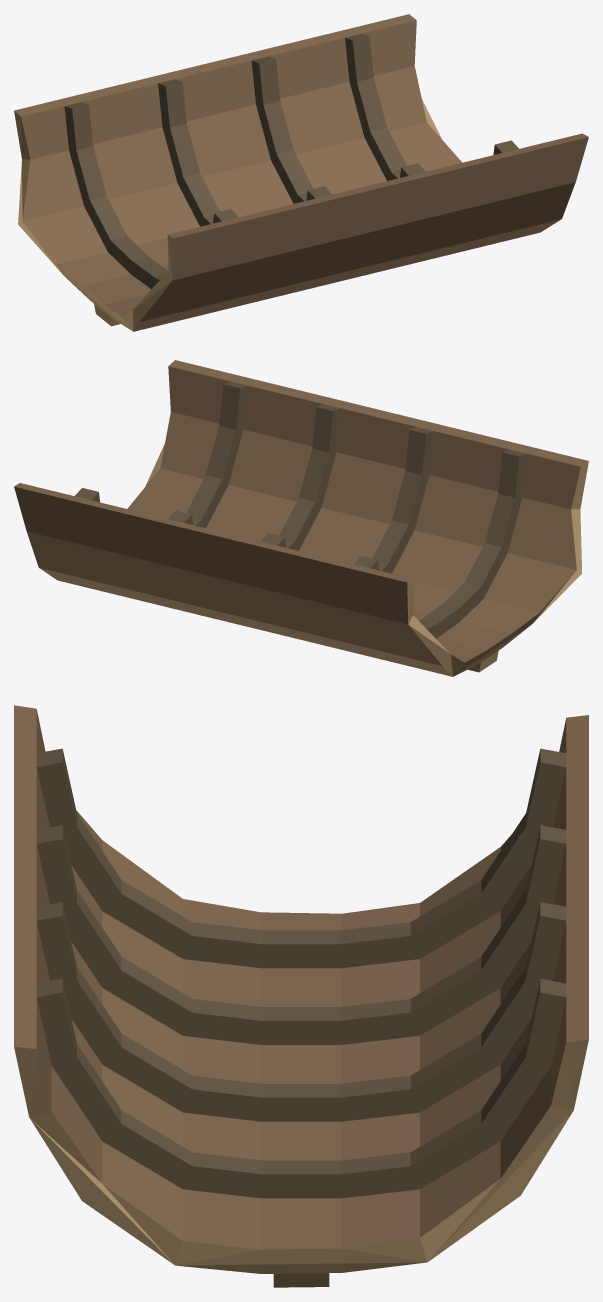
3 views of the same model, one above another, from view 1: azimuth 30°, elevation 25°; view 2: azimuth 150°, elevation 25°; view 3: azimuth 270°, elevation 25° (orthographic). The views are drawn at different scales.
Visible parts, largest first — view 1: ContinuousFracturedHull_IntegralGroundKeel, CurvedTransverseRib_01, CurvedTransverseRib_03, CurvedTransverseRib_02, CurvedTransverseRib_04; view 2: ContinuousFracturedHull_IntegralGroundKeel, CurvedTransverseRib_01, CurvedTransverseRib_02, CurvedTransverseRib_03, CurvedTransverseRib_04; view 3: ContinuousFracturedHull_IntegralGroundKeel, CurvedTransverseRib_04, CurvedTransverseRib_01, CurvedTransverseRib_03, CurvedTransverseRib_02.
Part boxes in pixels (box(x1,y1,x2,y2)): ContinuousFracturedHull_IntegralGroundKeel: box(14, 14, 588, 331); CurvedTransverseRib_01: box(64, 102, 238, 289); CurvedTransverseRib_03: box(251, 56, 425, 203); CurvedTransverseRib_02: box(158, 79, 331, 226); CurvedTransverseRib_04: box(345, 33, 518, 180); ContinuousFracturedHull_IntegralGroundKeel: box(14, 360, 588, 676); CurvedTransverseRib_01: box(354, 449, 526, 638); CurvedTransverseRib_02: box(261, 427, 433, 573); CurvedTransverseRib_03: box(168, 404, 340, 550); CurvedTransverseRib_04: box(75, 381, 247, 528); ContinuousFracturedHull_IntegralGroundKeel: box(14, 705, 588, 1287); CurvedTransverseRib_04: box(36, 979, 566, 1198); CurvedTransverseRib_01: box(36, 748, 566, 968); CurvedTransverseRib_03: box(36, 902, 566, 1121); CurvedTransverseRib_02: box(36, 825, 566, 1044).
Size of the model in its own units: 3.31 by 1.1 by 2.28.
